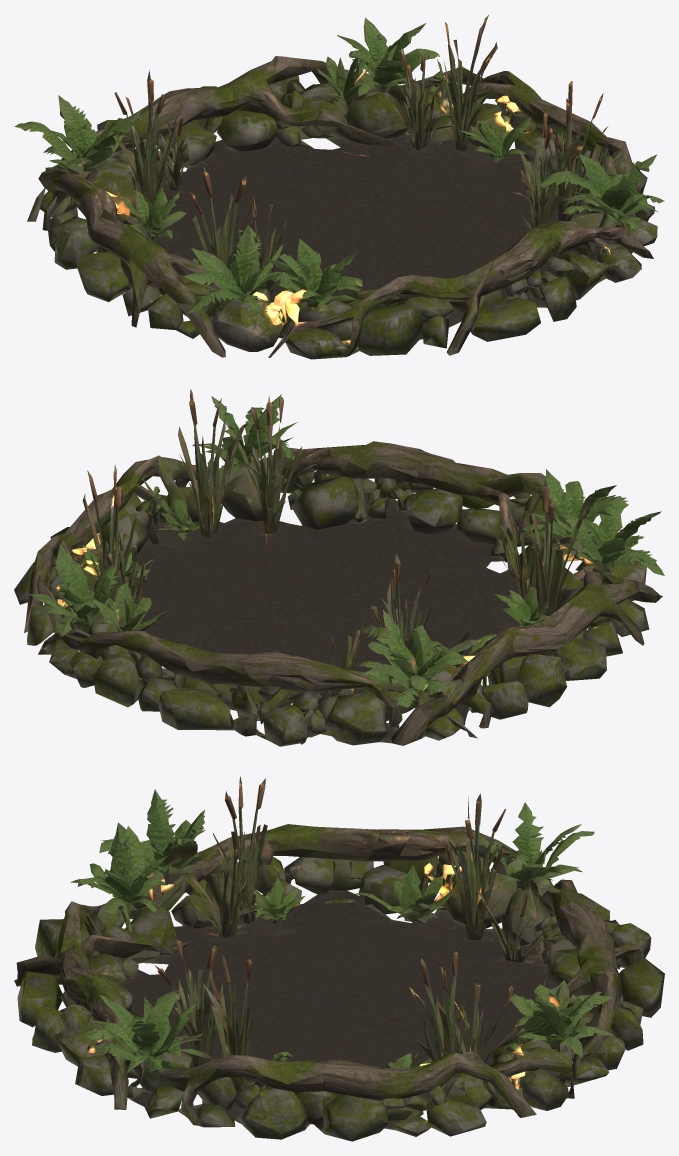
Rendered from sp_m_pond.glb.
3 views of the same model, one above another, from view 1: azimuth 30°, elevation 25°; view 2: azimuth 150°, elevation 25°; view 3: azimuth 270°, elevation 25° (orthographic). The views are drawn at different scales.
Visible parts, largest first — view 1: Mesh_0; view 2: Mesh_0; view 3: Mesh_0.
Part boxes in pixels (left/top/right/bottom): Mesh_0: left=14, top=15, right=664, bottom=359; Mesh_0: left=14, top=389, right=664, bottom=746; Mesh_0: left=14, top=776, right=664, bottom=1141.
Bounding box in the file's own units: 1.83 × 0.4801 × 1.87.
Materials: 1 (1 with a texture image).
